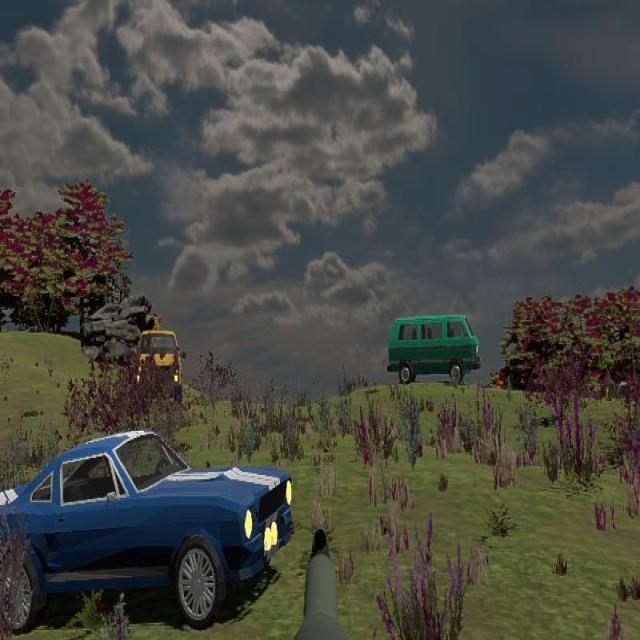car: (0, 428, 294, 632), (388, 313, 480, 386), (135, 329, 186, 404)
